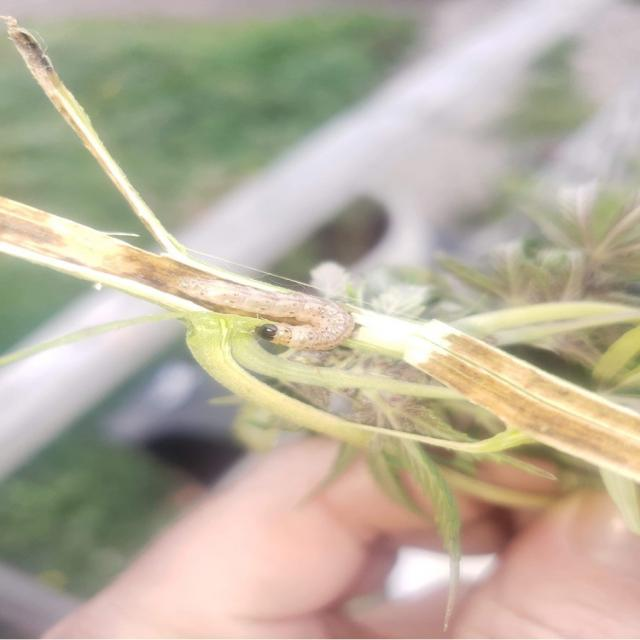cornborer-Larva-: (172, 263, 364, 354)
